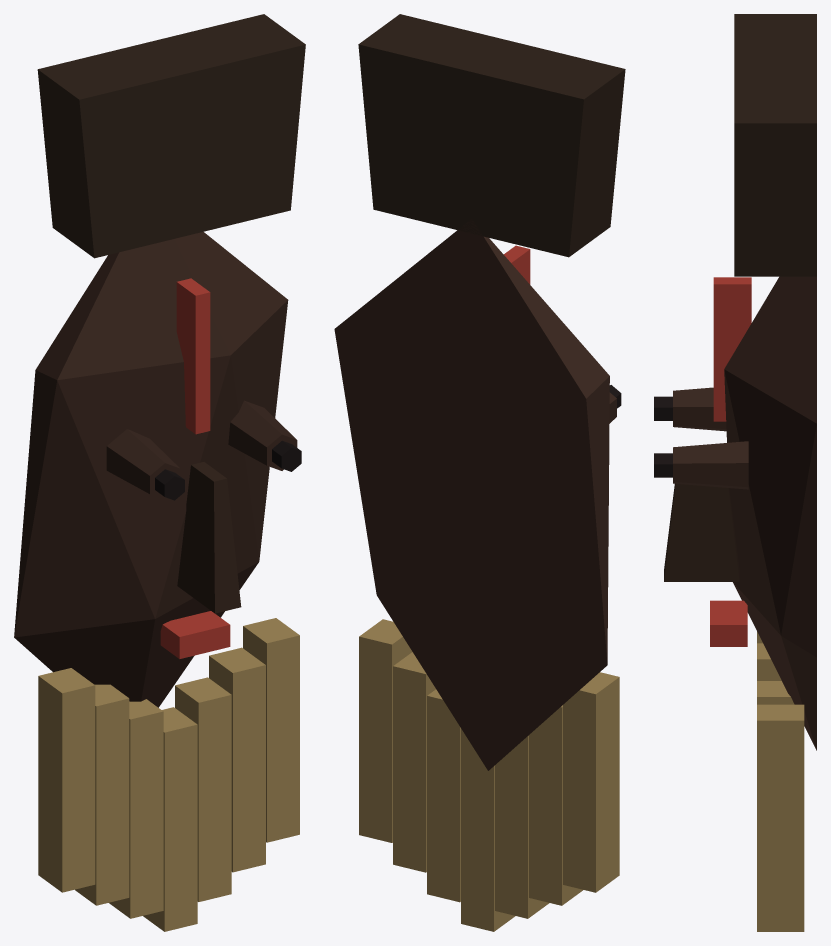
Rendered from wall-mask-14.glb.
3 renders of one model, left to right at view 1: azimuth 30°, elevation 25°; view 2: azimuth 150°, elevation 25°; view 3: azimuth 270°, elevation 25°, orthographic.
Visible parts, largest first — view 1: wall_mask_14; view 2: wall_mask_14; view 3: wall_mask_14.
Part boxes in pixels (<box>): wall_mask_14: <box>14,14,305,931</box>; wall_mask_14: <box>334,14,625,931</box>; wall_mask_14: <box>654,14,816,931</box>.
Bounding box in the file's own units: 0.1659 × 0.4997 × 0.0862.
